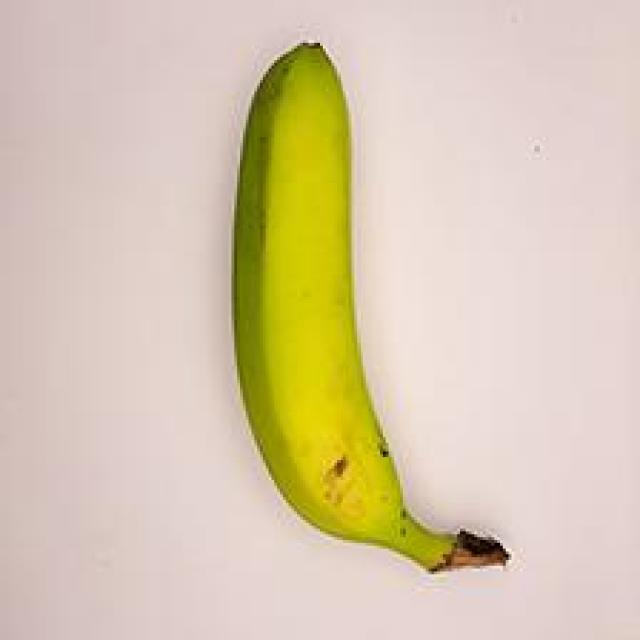Unripe: (196, 31, 534, 602)
